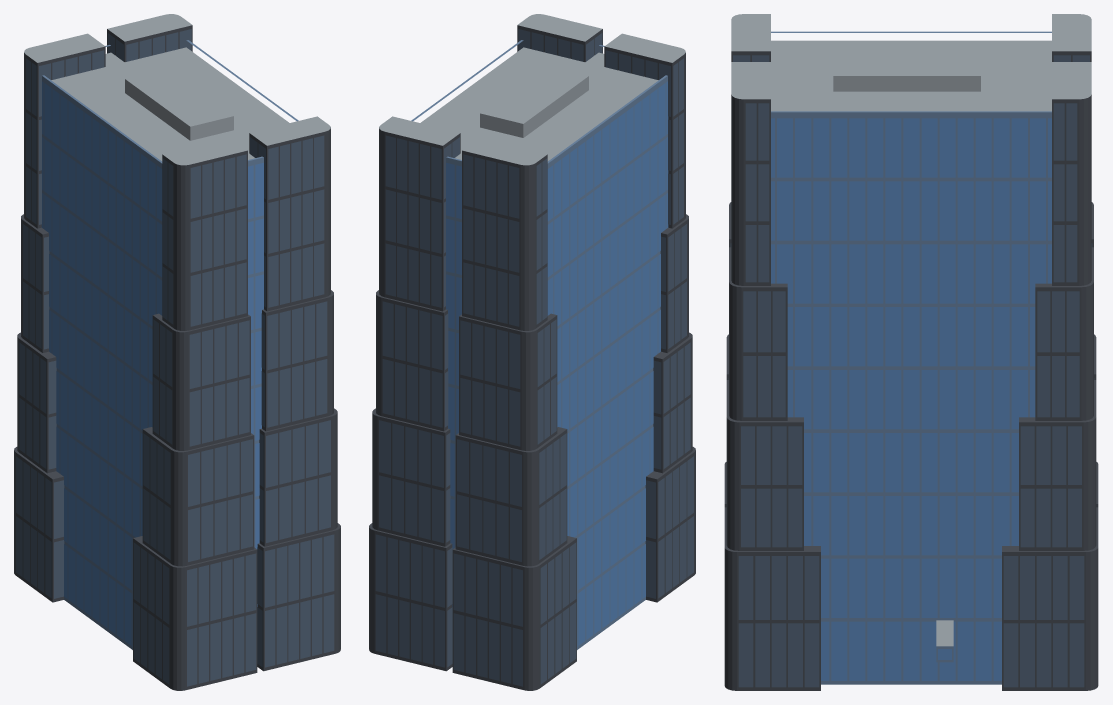
The model's file is clt-charlotte-plaza.glb.
The picture shows the model from 3 angles, left to right: view 1: azimuth 30°, elevation 25°; view 2: azimuth 150°, elevation 25°; view 3: azimuth 270°, elevation 25°; orthographic projection. The views are drawn at different scales.
Parts seen in each view (by area): view 1: Charlotte Plaza; view 2: Charlotte Plaza; view 3: Charlotte Plaza.
Part boxes in pixels (left/top/right/bottom): Charlotte Plaza: left=14, top=14, right=340, bottom=690; Charlotte Plaza: left=369, top=14, right=695, bottom=690; Charlotte Plaza: left=724, top=14, right=1098, bottom=690.
Size of the model in its own units: 47.08 by 114 by 65.98.
